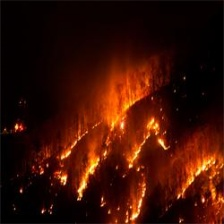fire: (62, 91, 224, 222)
